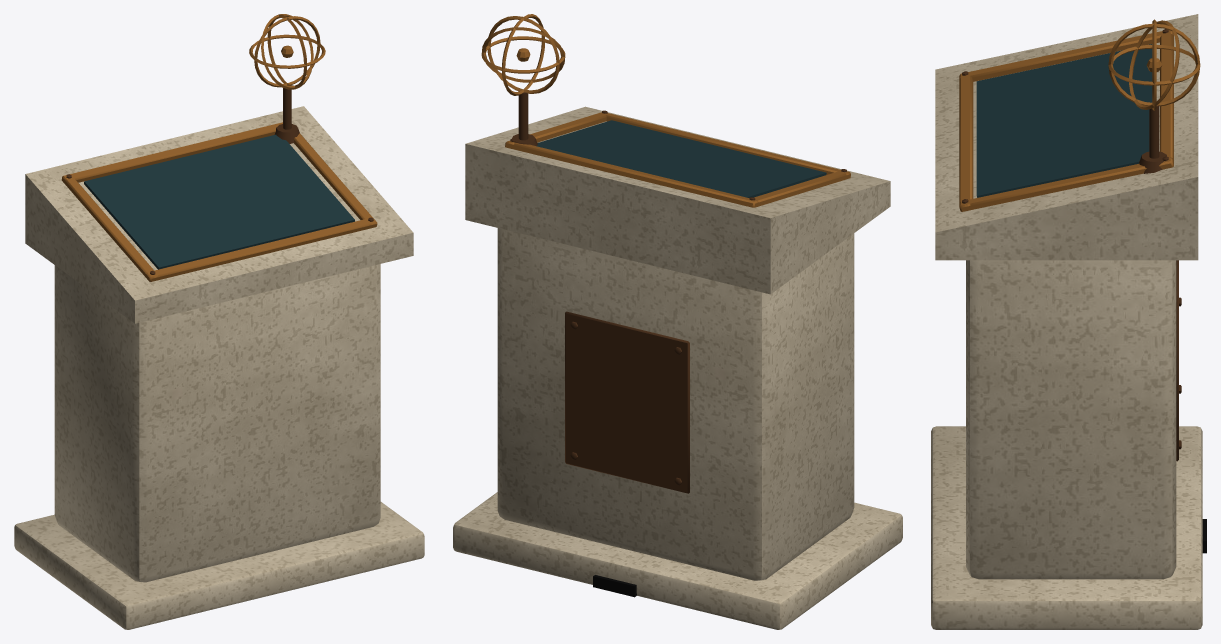
File: observatory-forecast-plinth.lod0.glb
3 renders of one model, left to right at view 1: azimuth 30°, elevation 25°; view 2: azimuth 150°, elevation 25°; view 3: azimuth 270°, elevation 25°, orthographic. The views are drawn at different scales.
Visible parts, largest first — view 1: observatory_forecast_plinth_Stone • warm limestone, observatory_forecast_plinth_panel_slot, observatory_forecast_plinth_Trim • places palette; view 2: observatory_forecast_plinth_Stone • warm limestone, observatory_forecast_plinth_Trim • places palette, observatory_forecast_plinth_panel_slot; view 3: observatory_forecast_plinth_Stone • warm limestone, observatory_forecast_plinth_panel_slot, observatory_forecast_plinth_Trim • places palette.
Boxes of the visible parts, x1,y1,x2,y2 form: observatory_forecast_plinth_Stone • warm limestone: (14, 106, 424, 629); observatory_forecast_plinth_panel_slot: (84, 134, 354, 269); observatory_forecast_plinth_Trim • places palette: (61, 14, 377, 281); observatory_forecast_plinth_Stone • warm limestone: (453, 106, 902, 629); observatory_forecast_plinth_Trim • places palette: (481, 14, 850, 597); observatory_forecast_plinth_panel_slot: (536, 120, 826, 198); observatory_forecast_plinth_Stone • warm limestone: (931, 14, 1202, 629); observatory_forecast_plinth_panel_slot: (976, 44, 1152, 197); observatory_forecast_plinth_Trim • places palette: (959, 19, 1206, 553).
Bounding box in the file's own units: 0.95 × 1.47 × 0.63.
3 materials, 2 textured.
